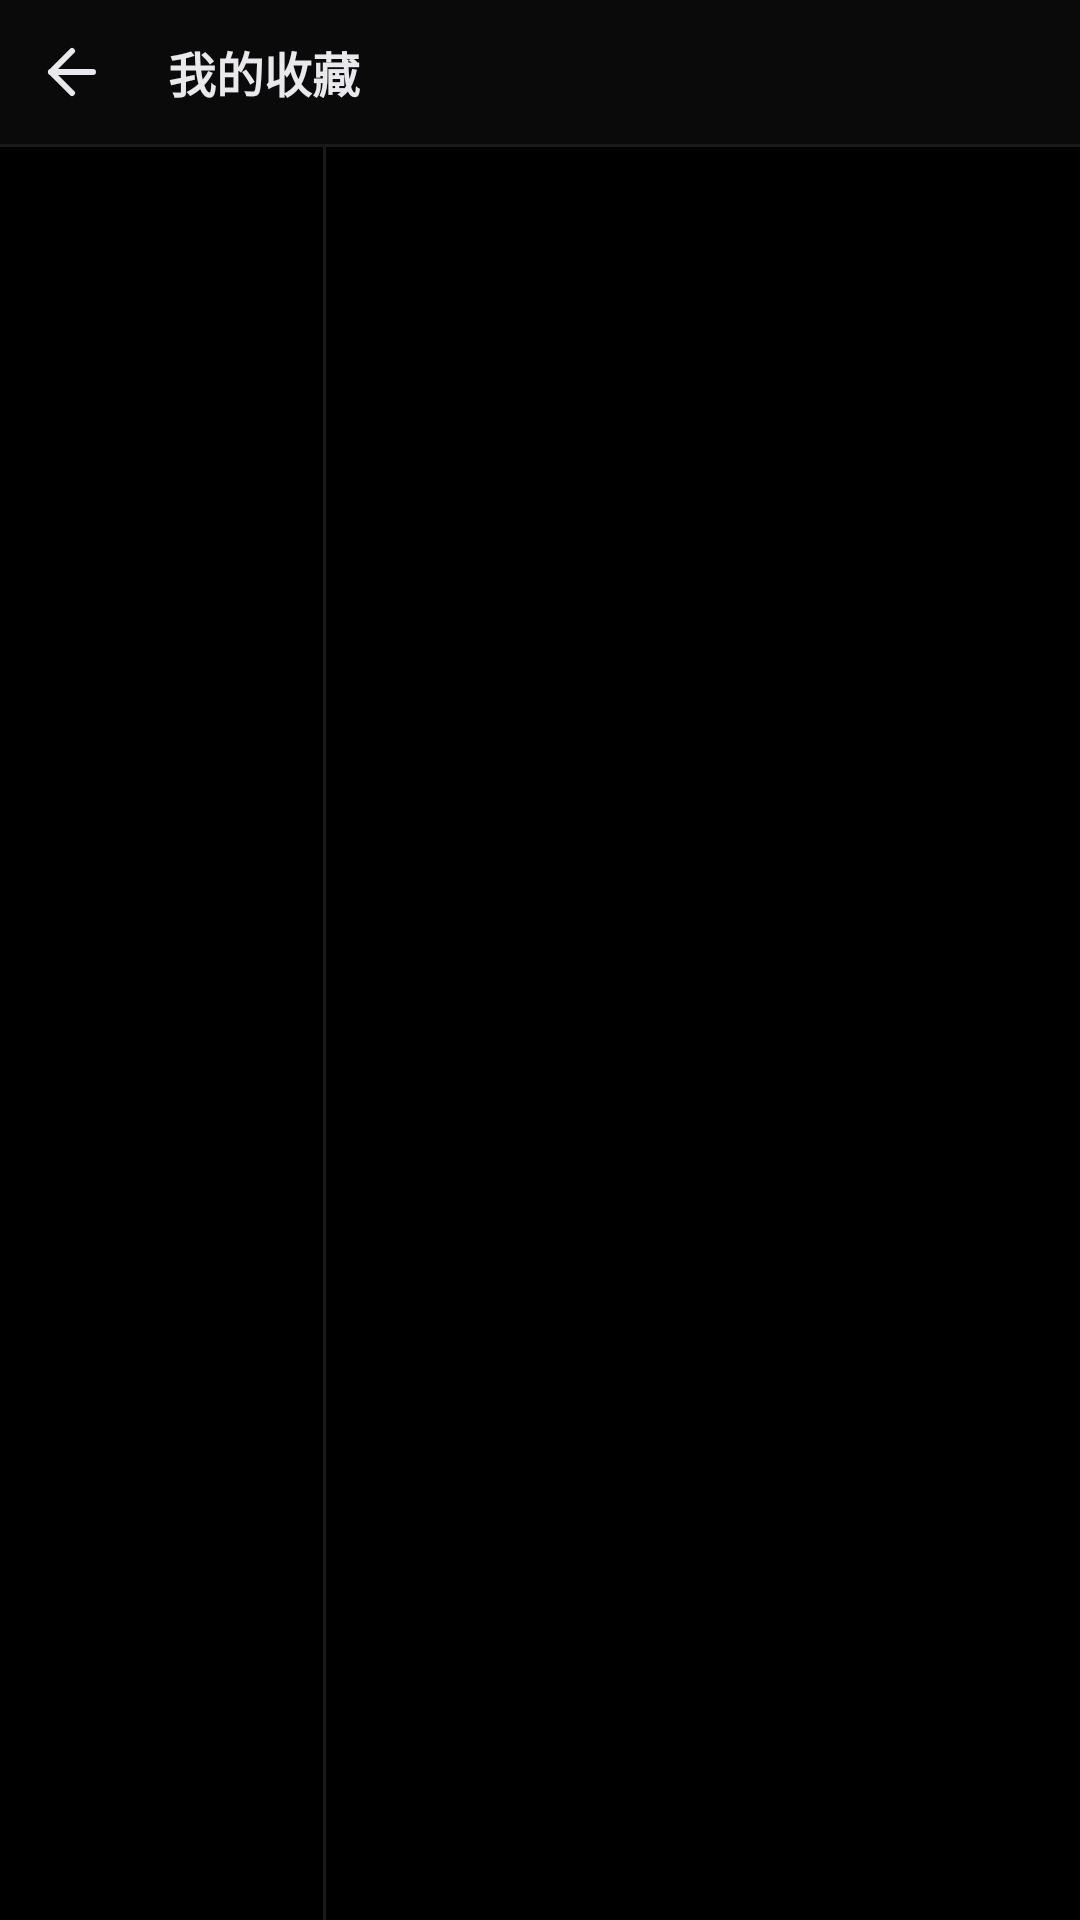

Icon click points for this 1080 × 1920 phone screenshot, format (x=x, y=y):
← 返回: (x=72, y=72)
